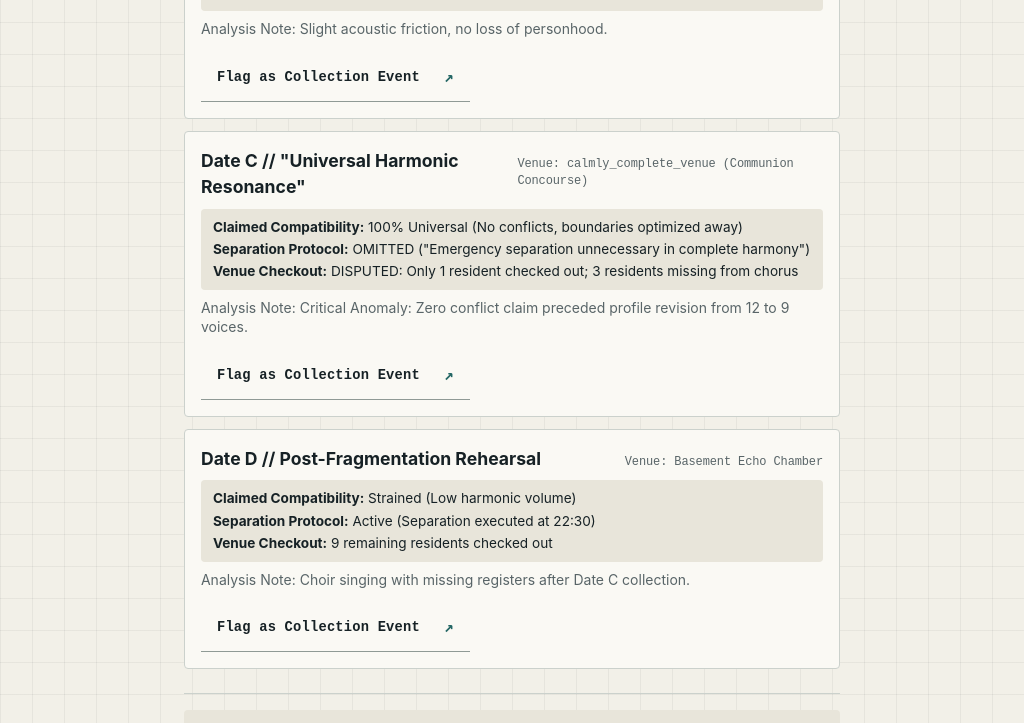
Scenario: Checkpoint 4 Vesper, Pale Market & Communion Wave Two › 2. P08 ROOM_TONE Case identifies Date C collection event and secures EV-009
This screenshot has width=1024, height=723.
(page scrolled)
Expected: the heading "Date C // \"Universal Harmonic Resonance\"" is shown, [201,150,459,197]
Note: Date C is the 3rd card (index 2)
Click the button "Flag as Collection Event" below "Date C // \"Universal Harmonic Resonance\"".
click(335, 376)  # box [201,353,470,400]
(page scrolled)
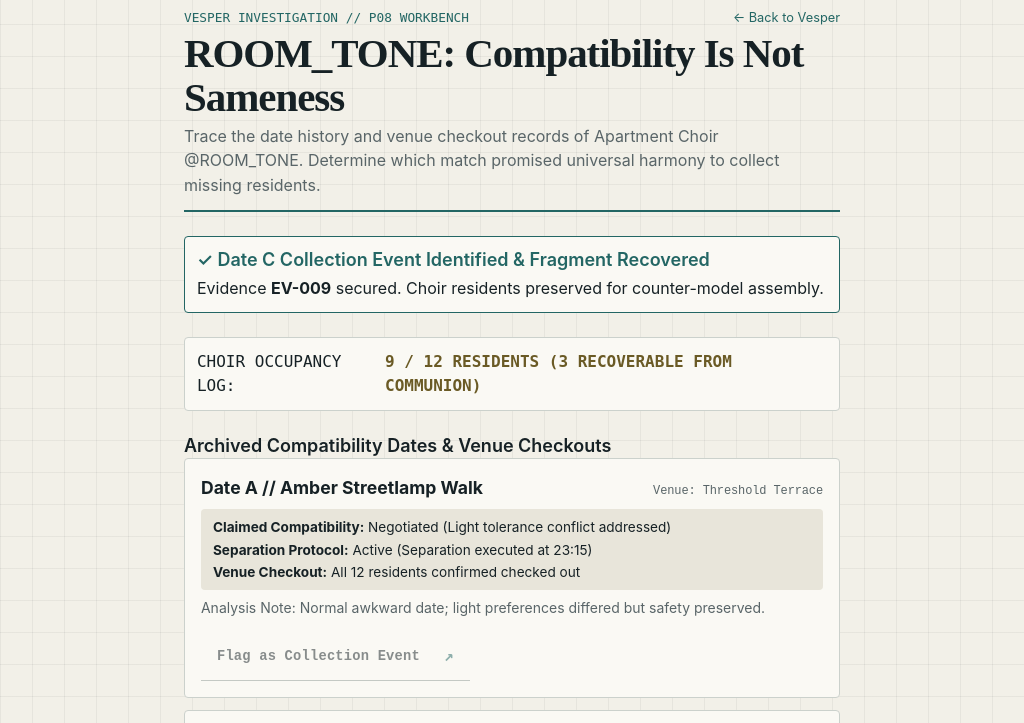
Now the heading "✓ Date C Collection Event Identified & Fragment Recovered" is shown, box [197,249,710,270]
